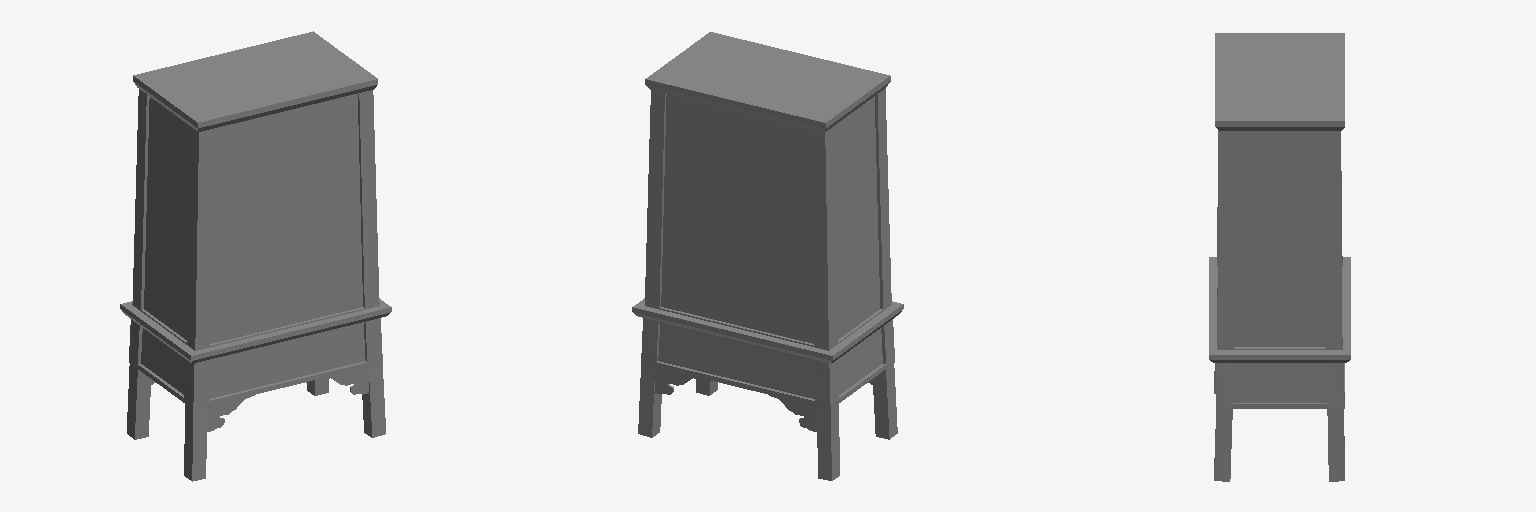
File: Cabinet1.obj
3 renders of one model, left to right at view 1: azimuth 30°, elevation 25°; view 2: azimuth 150°, elevation 25°; view 3: azimuth 270°, elevation 25°, orthographic.
Parts seen in each view (by area): view 1: Box02, Box01, Box04, Box03, Box11, Box09, Box10, Shape02, Shape1; view 2: Box02, Box01, Box04, Box03, Box09, Box11, Box08, Shape03, Shape04; view 3: Box02, Box01, Box04, Box03, Box10, Box08.
Boxes of the visible parts, x1=… form: Box02: x1=132, y1=89, x2=379, y2=350; Box01: x1=133, y1=31, x2=377, y2=131; Box04: x1=129, y1=318, x2=382, y2=409; Box03: x1=120, y1=298, x2=391, y2=363; Box11: x1=184, y1=404, x2=206, y2=481; Box09: x1=127, y1=364, x2=150, y2=439; Box10: x1=362, y1=364, x2=385, y2=437; Shape02: x1=321, y1=367, x2=368, y2=394; Shape1: x1=207, y1=395, x2=254, y2=431; Box02: x1=645, y1=88, x2=891, y2=350; Box01: x1=645, y1=32, x2=890, y2=131; Box04: x1=641, y1=318, x2=894, y2=409; Box03: x1=632, y1=298, x2=903, y2=363; Box09: x1=817, y1=404, x2=839, y2=480; Box11: x1=873, y1=364, x2=897, y2=439; Box08: x1=638, y1=364, x2=661, y2=437; Shape03: x1=654, y1=367, x2=701, y2=394; Shape04: x1=769, y1=395, x2=816, y2=431; Box02: x1=1217, y1=130, x2=1342, y2=349; Box01: x1=1215, y1=33, x2=1344, y2=130; Box04: x1=1216, y1=363, x2=1344, y2=408; Box03: x1=1209, y1=257, x2=1350, y2=362; Box10: x1=1214, y1=404, x2=1232, y2=481; Box08: x1=1327, y1=404, x2=1344, y2=481.
Bounding box in the file's own units: 14.09 × 24.06 × 8.66.